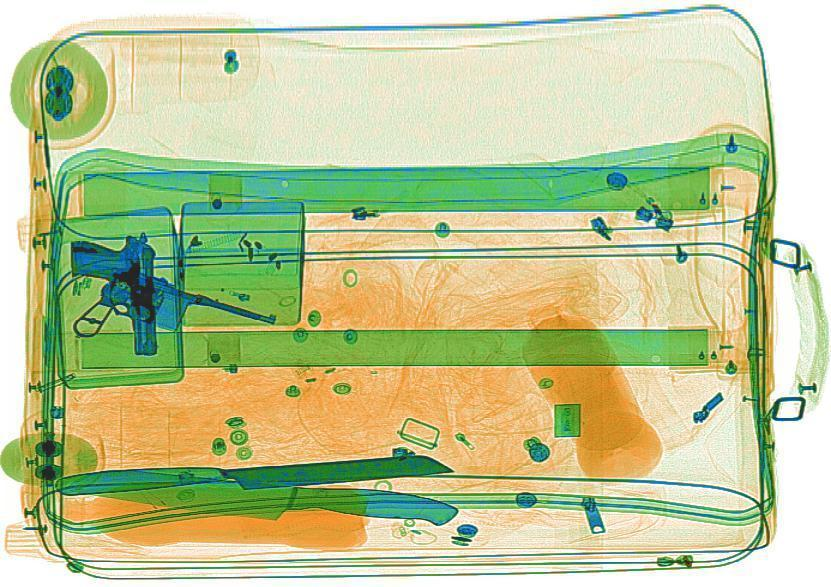Gun: (66, 263, 284, 376), (45, 225, 176, 361)
Knife: (54, 462, 460, 529), (47, 448, 454, 504)
